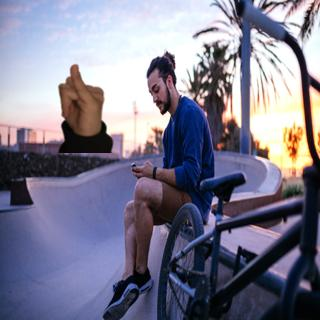HAVE: (50, 59, 114, 139)
